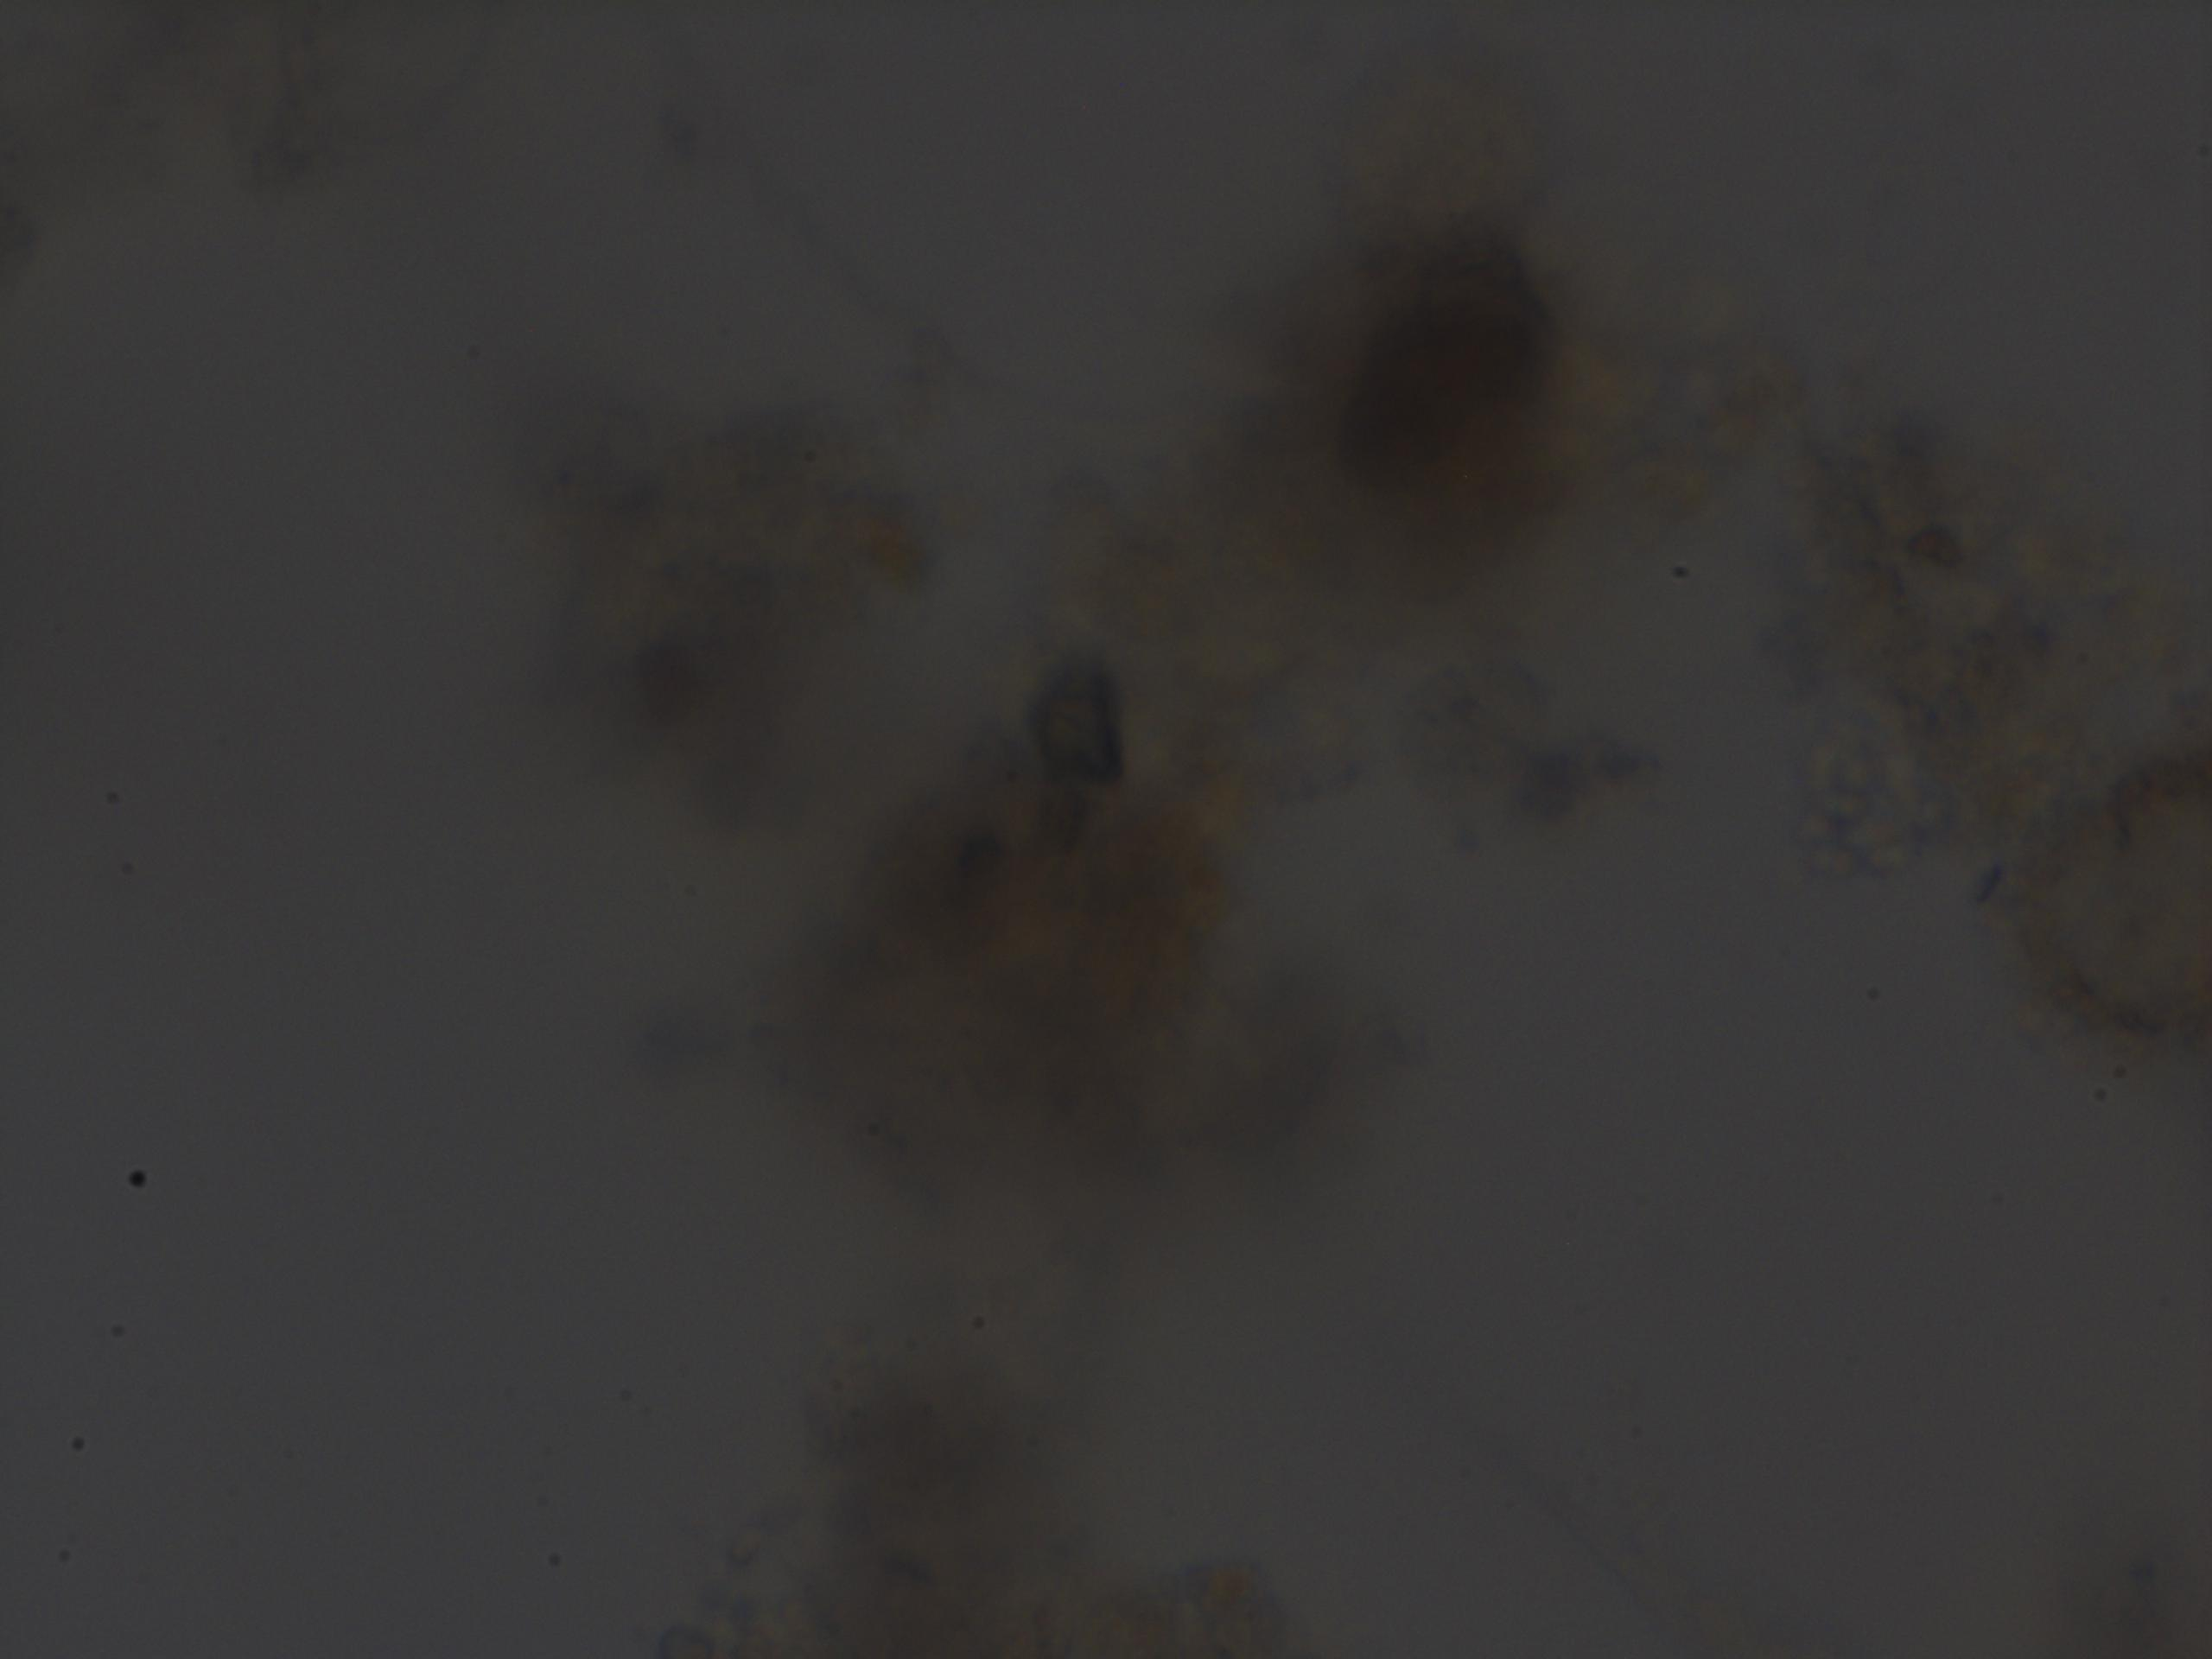open_floc: (503, 195, 1754, 1659)
